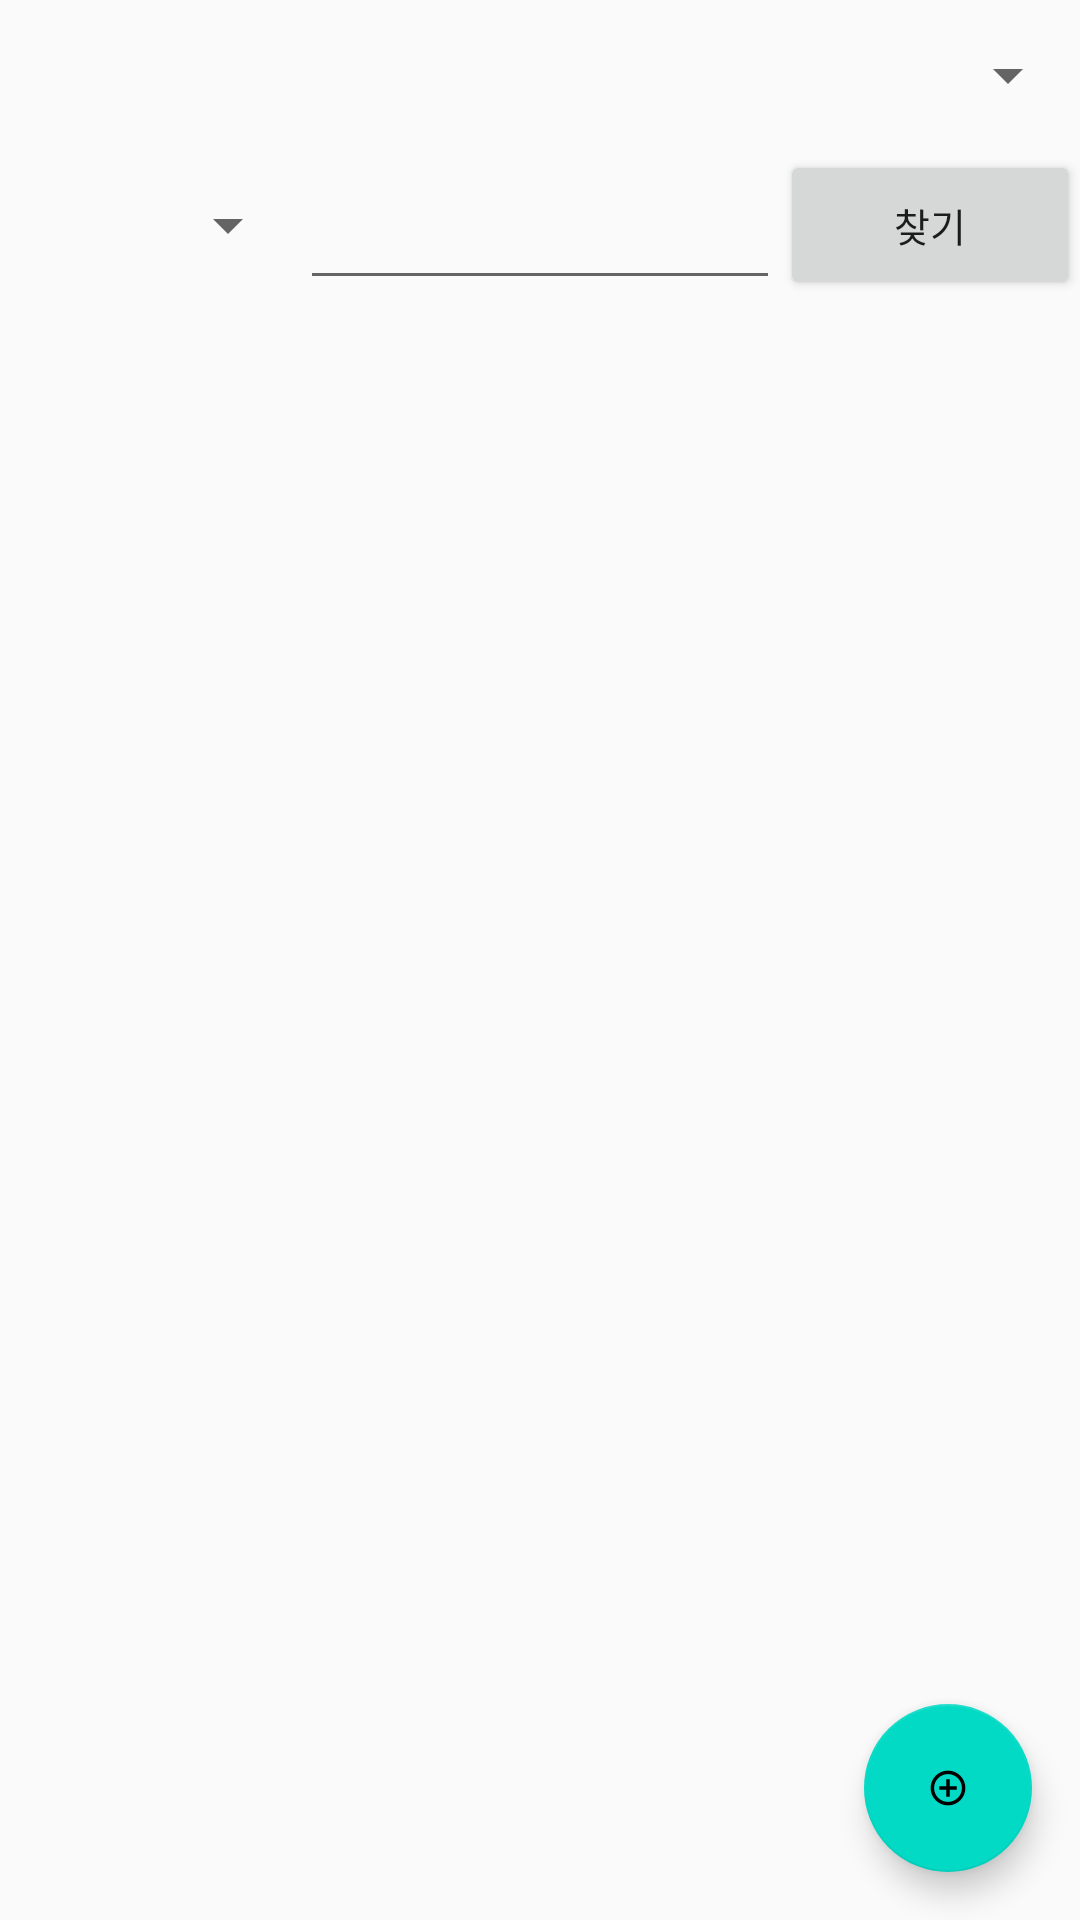

Icon click points for this 1080x1920 phone screenshot, format (x=x, y=y):
add post: (x=948, y=1788)
